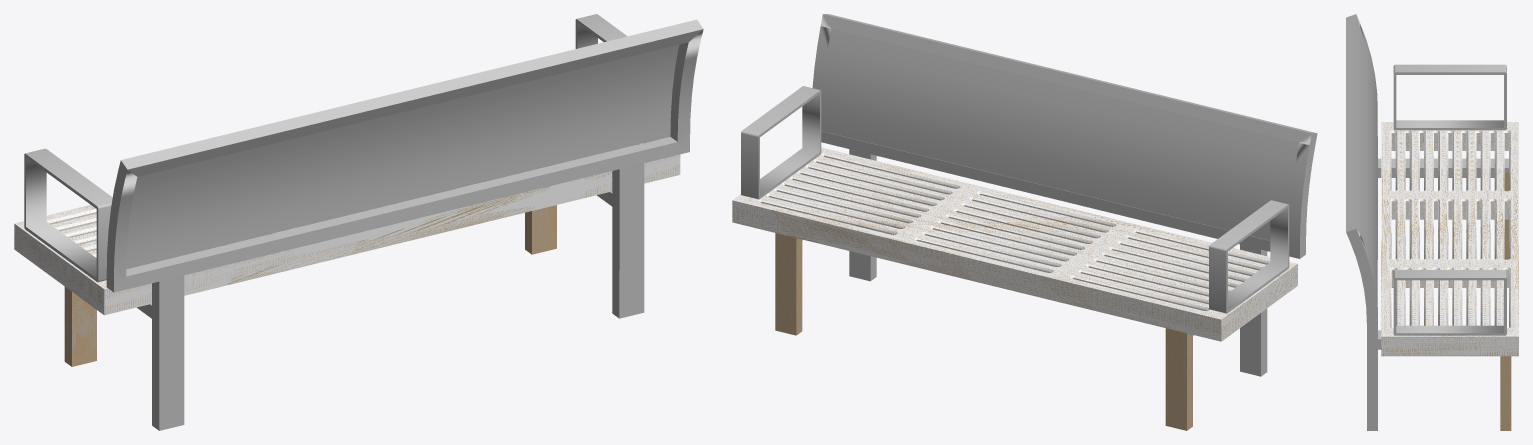
The picture shows the model from 3 angles, left to right: view 1: azimuth 30°, elevation 25°; view 2: azimuth 150°, elevation 25°; view 3: azimuth 270°, elevation 25°; orthographic projection. The views are drawn at different scales.
Visible parts, largest first — view 1: mesh18_mesh18-geometry, mesh16_mesh16-geometry, mesh1_mesh1-geometry, mesh8_mesh8-geometry, mesh3_mesh3-geometry, mesh2_mesh2-geometry, mesh14_mesh14-geometry, mesh12_mesh12-geometry; view 2: mesh18_mesh18-geometry, mesh1_mesh1-geometry, mesh16_mesh16-geometry, mesh3_mesh3-geometry, mesh2_mesh2-geometry, mesh8_mesh8-geometry, mesh14_mesh14-geometry, mesh12_mesh12-geometry; view 3: mesh1_mesh1-geometry, mesh3_mesh3-geometry, mesh18_mesh18-geometry, mesh16_mesh16-geometry, mesh8_mesh8-geometry, mesh12_mesh12-geometry, mesh2_mesh2-geometry.
Part boxes in pixels (<box>): mesh18_mesh18-geometry: <box>126,45,679,269</box>; mesh16_mesh16-geometry: <box>114,19,703,292</box>; mesh1_mesh1-geometry: <box>14,143,680,315</box>; mesh8_mesh8-geometry: <box>137,163,644,430</box>; mesh3_mesh3-geometry: <box>24,14,669,282</box>; mesh2_mesh2-geometry: <box>64,205,556,366</box>; mesh14_mesh14-geometry: <box>106,160,137,292</box>; mesh12_mesh12-geometry: <box>670,29,703,151</box>; mesh18_mesh18-geometry: <box>821,28,1298,240</box>; mesh1_mesh1-geometry: <box>732,147,1297,341</box>; mesh16_mesh16-geometry: <box>821,14,1316,258</box>; mesh3_mesh3-geometry: <box>741,86,1289,313</box>; mesh2_mesh2-geometry: <box>775,233,1192,430</box>; mesh8_mesh8-geometry: <box>801,149,1267,376</box>; mesh14_mesh14-geometry: <box>1289,133,1317,258</box>; mesh12_mesh12-geometry: <box>812,14,830,126</box>; mesh1_mesh1-geometry: <box>1381,122,1518,356</box>; mesh3_mesh3-geometry: <box>1393,64,1506,335</box>; mesh18_mesh18-geometry: <box>1360,29,1377,310</box>; mesh16_mesh16-geometry: <box>1346,14,1360,232</box>; mesh8_mesh8-geometry: <box>1367,136,1508,430</box>; mesh12_mesh12-geometry: <box>1346,229,1377,333</box>; mesh2_mesh2-geometry: <box>1500,170,1511,430</box>.
Size of the model in its own units: 0.863 by 0.411 by 0.2938.
